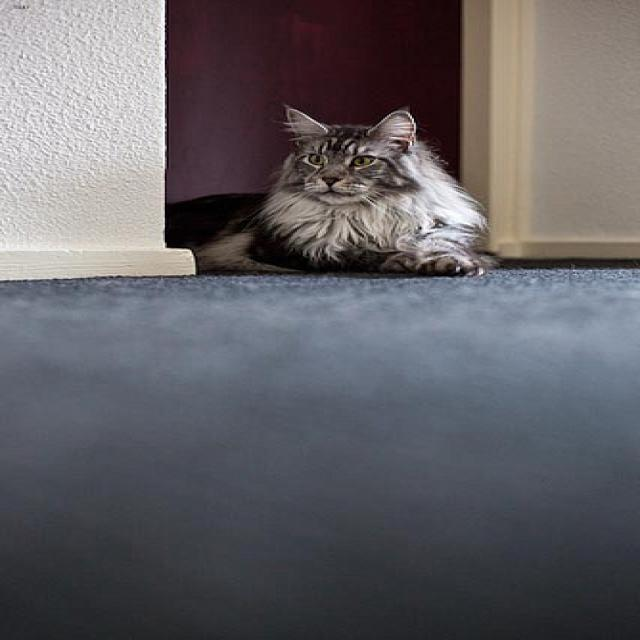Maine_Coon: (275, 99, 441, 212)
